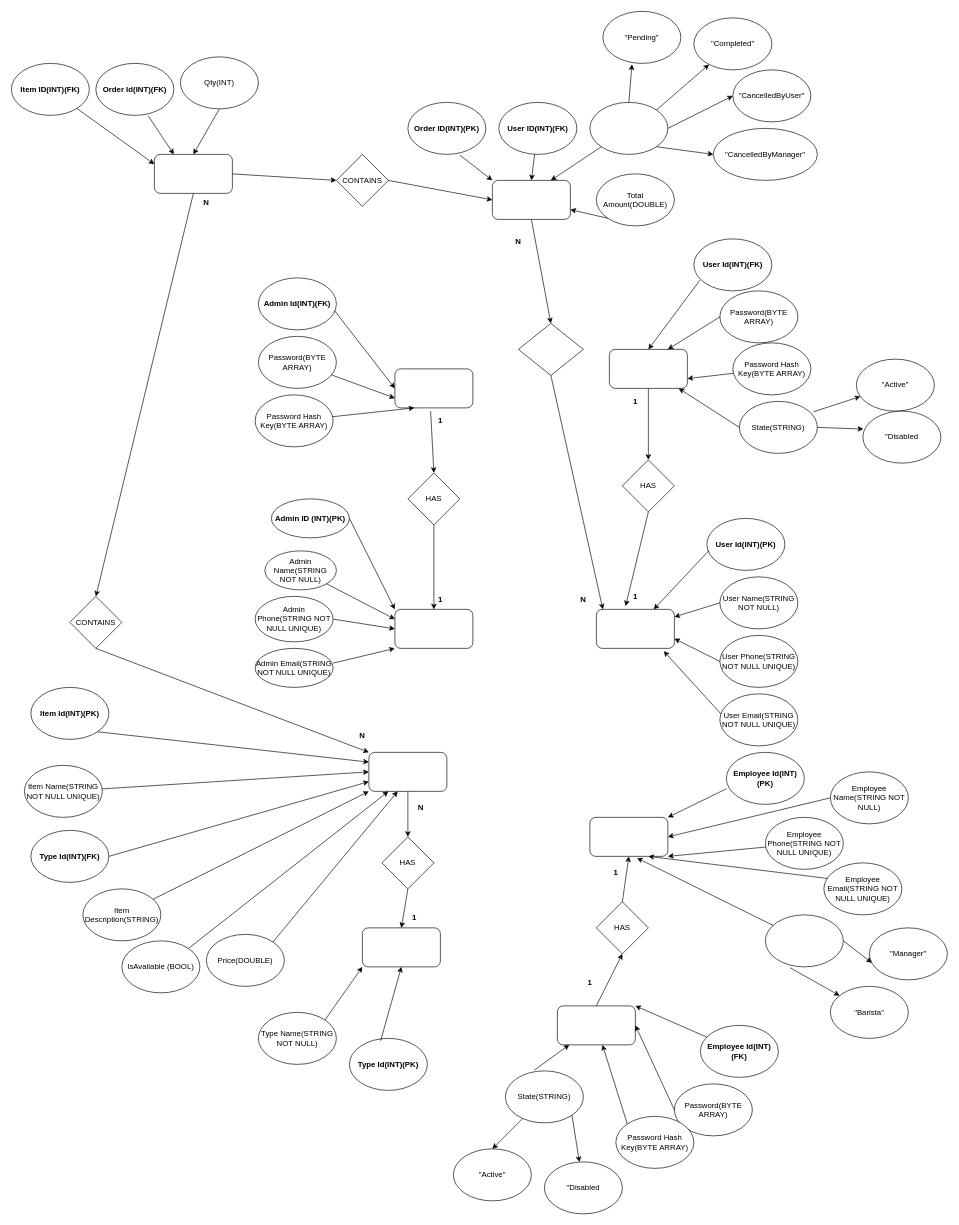
Some shapes in this 959 by 1225 pixel diagram are drawn without their labels. The shapes that lost their labels are listed below. From the top down, each one's box as (x1, y1, x2, y2) in pixels, then its label:
(589, 102, 668, 154): Order Status(String)
(154, 154, 232, 193): Order Items
(492, 180, 570, 219): Orders
(518, 323, 583, 375): ORDEREDBY
(609, 349, 687, 388): User Authentication
(394, 368, 473, 408): Admin Authentication
(394, 609, 473, 648): Admin
(596, 609, 674, 648): Users
(368, 752, 447, 791): Items
(589, 817, 668, 856): Employee
(362, 927, 440, 967): Item Type
(765, 914, 843, 967): Role(STRING NOT NULL)
(557, 1005, 635, 1045): Employee Authentication
